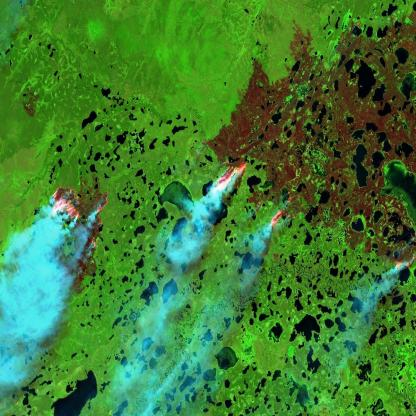fire: (48, 178, 112, 254), (208, 152, 252, 198), (260, 188, 302, 232), (387, 237, 416, 276)
